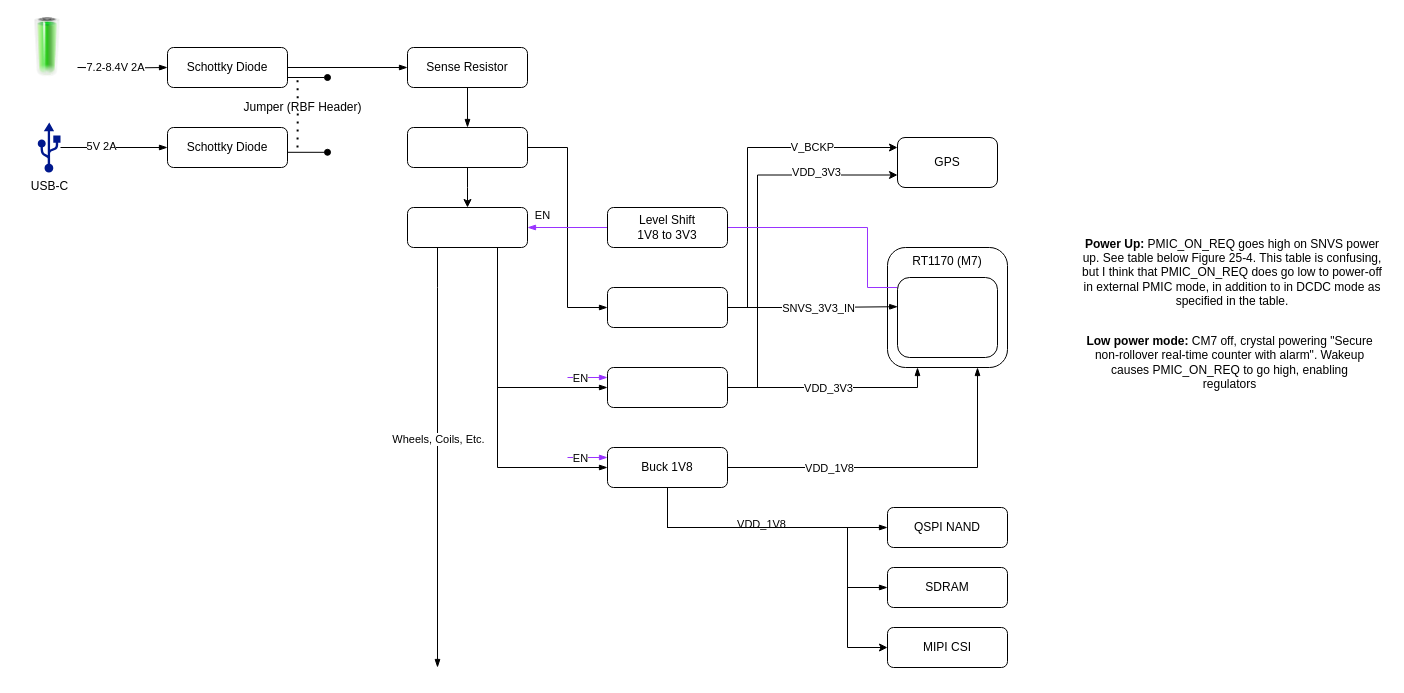
Image size: 1404x693. Some labels were removed from this diagram. Each missing label, with the box of its shape:
330uH Inductor: (406, 126, 528, 168)
6A Load Switch: (406, 206, 528, 248)
Buck 3V3: (606, 366, 728, 408)
LDO 3V3: (606, 286, 728, 328)
SNVS_LP (32.768kHz crystal, wake on counter): (896, 276, 998, 358)
